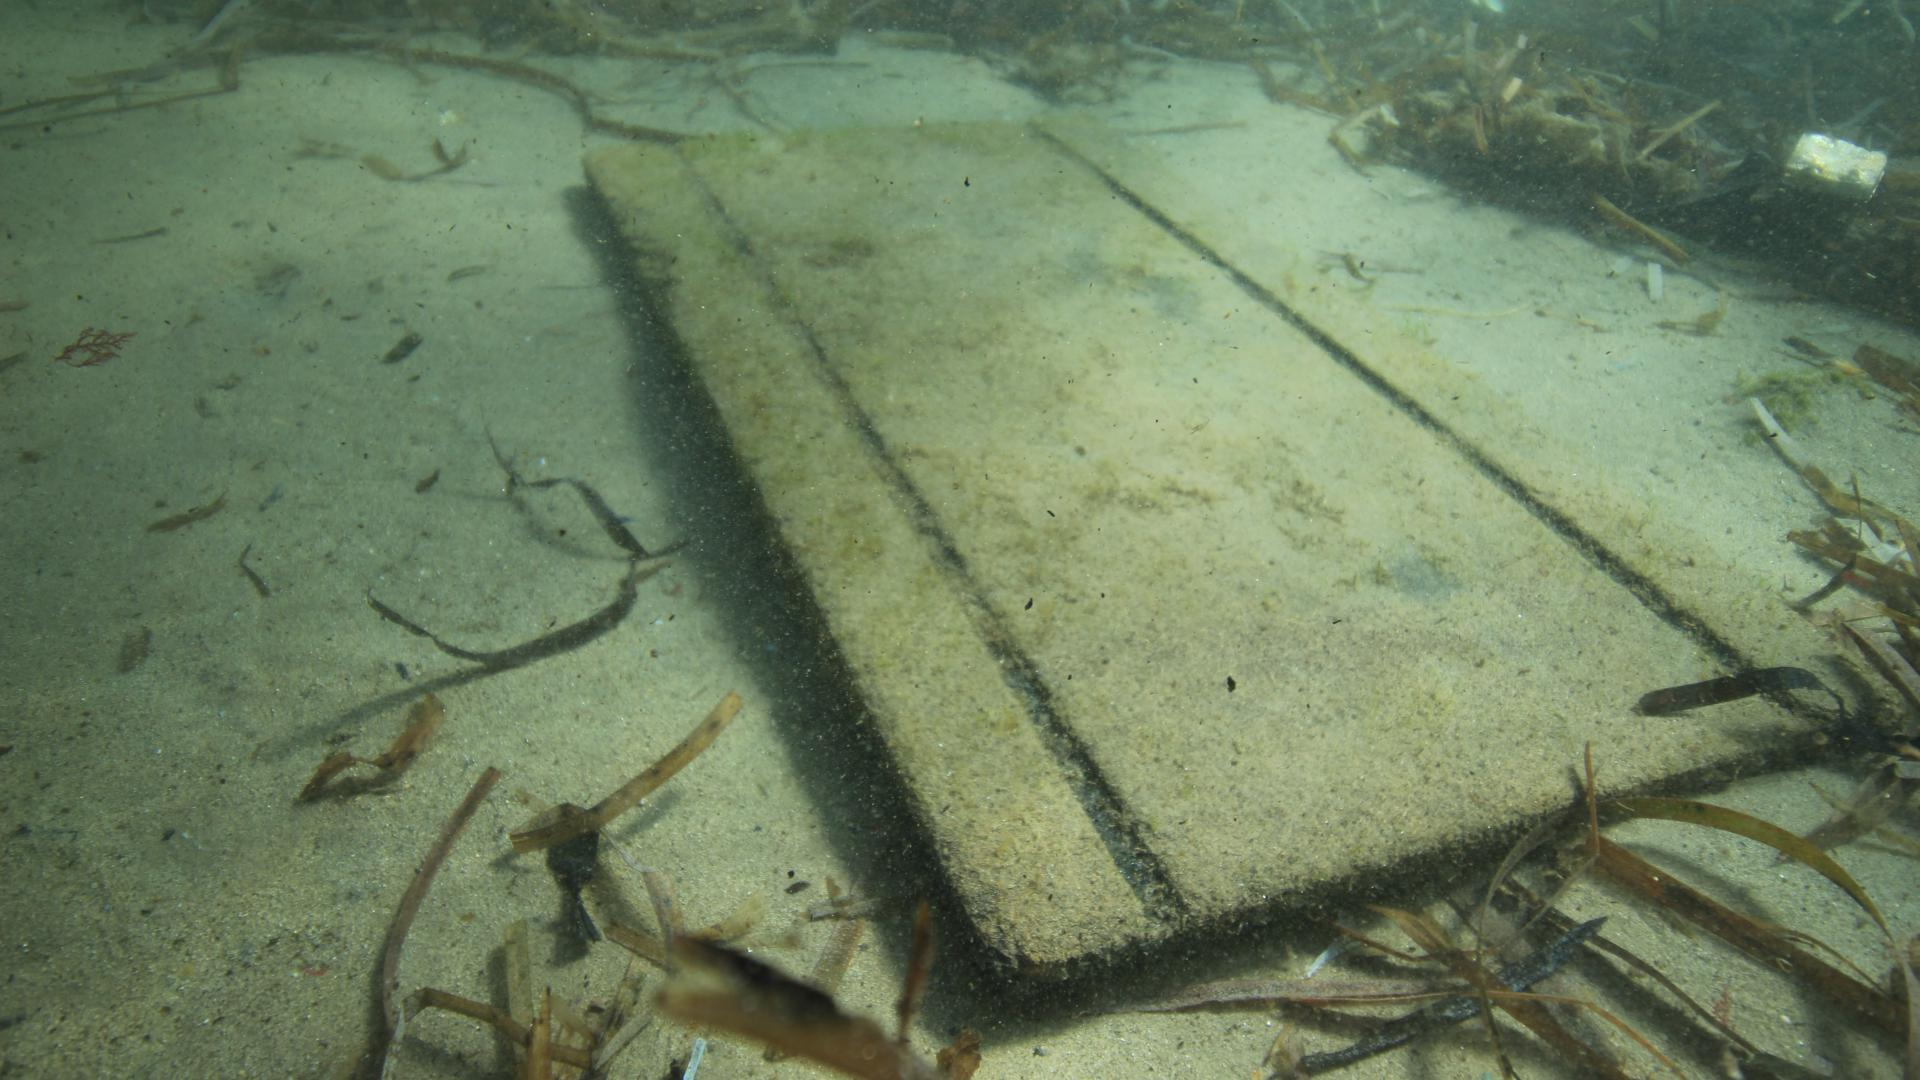wood: (578, 115, 1920, 982)
